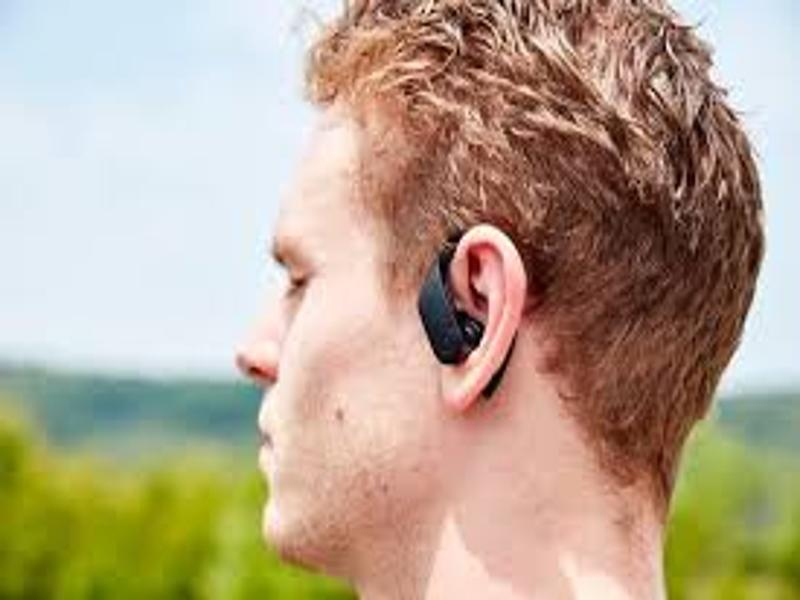headphone: (418, 252, 485, 363)
